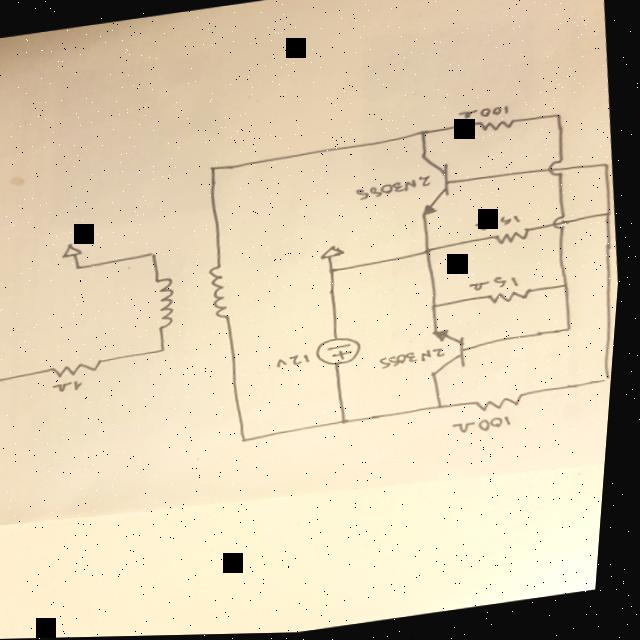crossover: (547, 160, 569, 178), (553, 214, 571, 233)
ground: (319, 243, 350, 263), (62, 240, 89, 259)
junction: (430, 300, 446, 313), (417, 127, 433, 140), (422, 245, 439, 257), (208, 163, 224, 175), (564, 324, 580, 336), (242, 433, 257, 445), (552, 111, 567, 123), (561, 281, 577, 292), (342, 416, 357, 426), (149, 248, 162, 259), (438, 402, 452, 411), (601, 162, 613, 172), (75, 262, 87, 271), (605, 212, 616, 221), (606, 376, 617, 385), (330, 267, 342, 275), (161, 345, 172, 353)
resistor: (478, 393, 532, 415), (54, 357, 108, 379), (488, 288, 538, 307), (492, 227, 537, 248), (479, 116, 517, 135)
source: (317, 334, 370, 370)
terminal: (0, 376, 12, 383)
text: (356, 177, 436, 202), (382, 346, 450, 371), (456, 415, 520, 438), (476, 215, 528, 235), (469, 276, 524, 294), (456, 105, 511, 122), (277, 351, 317, 370), (53, 377, 90, 396)
transformer: (148, 260, 242, 334)
transistor: (411, 149, 460, 221), (425, 325, 478, 379)
